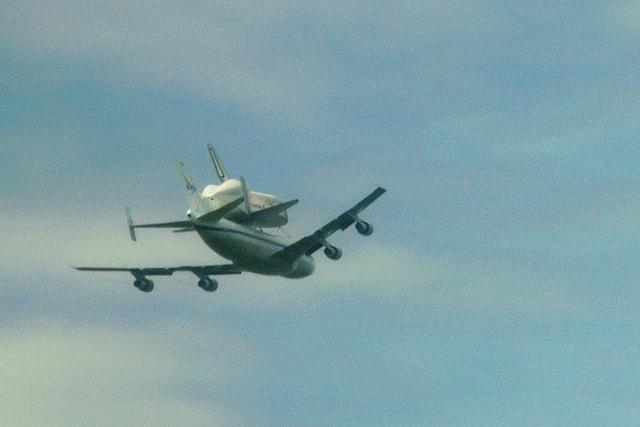airplane: (61, 141, 388, 288)
